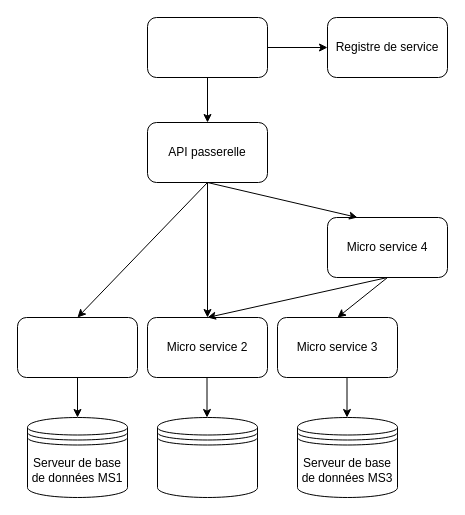
Some shapes in this 465 by 515 pixel diagram are drawn without their labels. The box of each missing label's shape, as (x1, y1, x2, y2) in pixels:
Front - end: (146, 16, 268, 78)
Micro service 1: (16, 316, 138, 378)
Serveur de base de données MS2: (156, 416, 258, 498)
